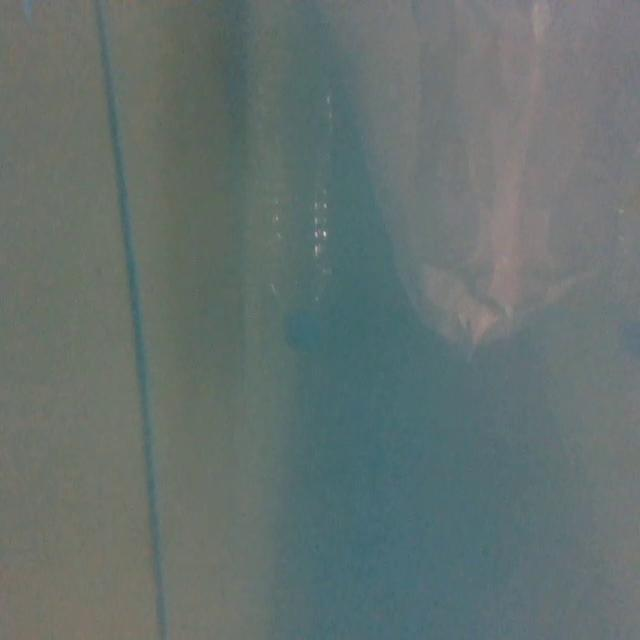plastic bags: (354, 0, 639, 355)
plastic bottle: (242, 14, 350, 358)
